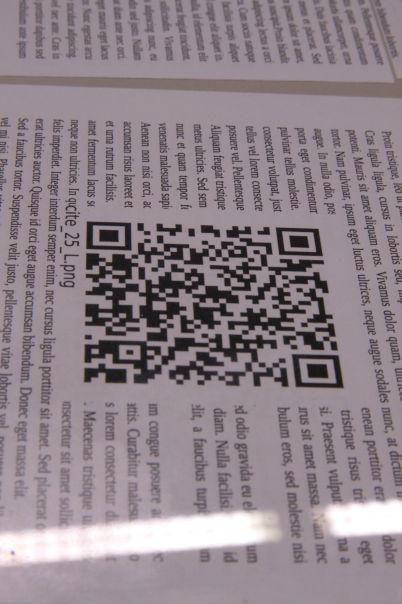Finder pattern: (287, 345, 352, 397), (81, 215, 139, 259), (273, 222, 328, 263)
